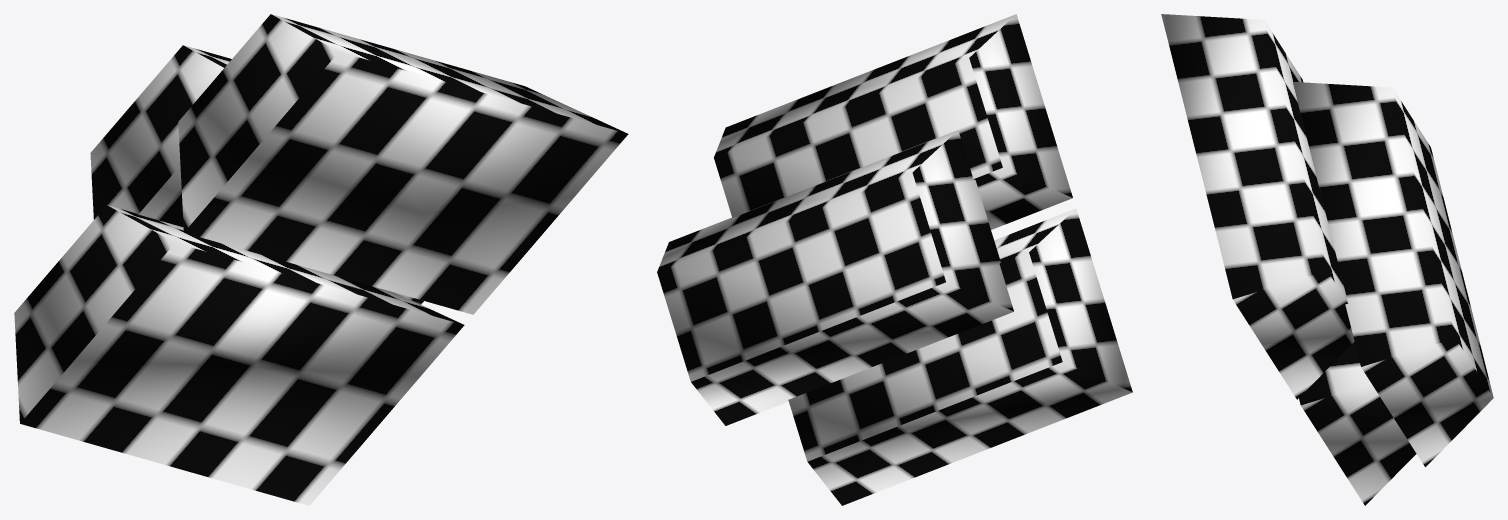
Rendered from initlimt21.dae.
The picture shows the model from 3 angles, left to right: view 1: azimuth 30°, elevation 25°; view 2: azimuth 150°, elevation 25°; view 3: azimuth 270°, elevation 25°; orthographic projection. The views are drawn at different scales.
Parts seen in each view (by area): view 1: item; view 2: item; view 3: item.
Boxes of the visible parts, left/top/right/bottom form: item: left=14, top=14, right=628, bottom=505; item: left=657, top=14, right=1132, bottom=505; item: left=1161, top=14, right=1493, bottom=505.
Bounding box in the file's own units: 1.71 × 1.09 × 1.64.
Materials: 1 (1 with a texture image).
